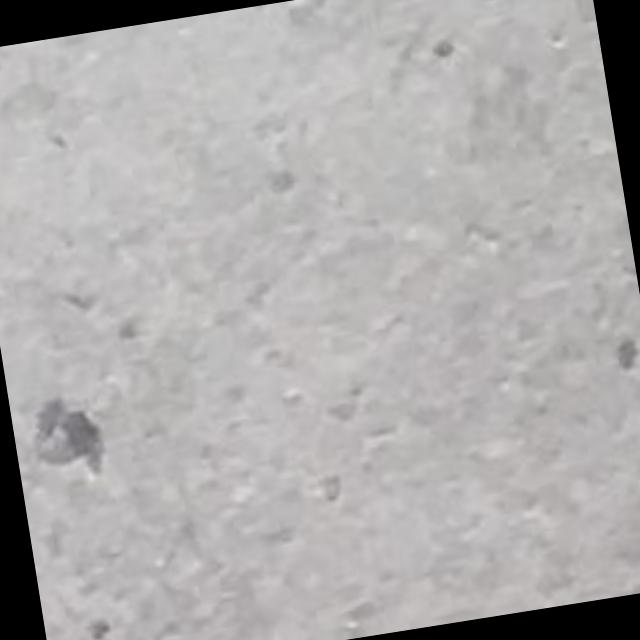peeling plaster: (35, 398, 105, 474)
